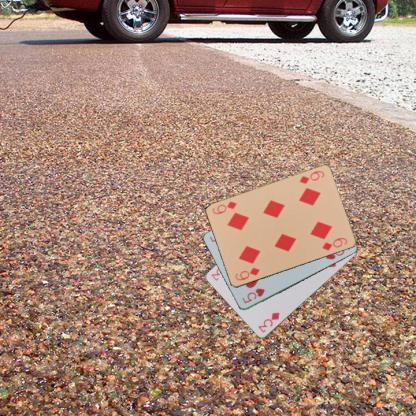3d: (256, 310, 280, 334)
5h: (240, 286, 266, 304)
6d: (232, 264, 261, 283), (296, 168, 326, 186)
